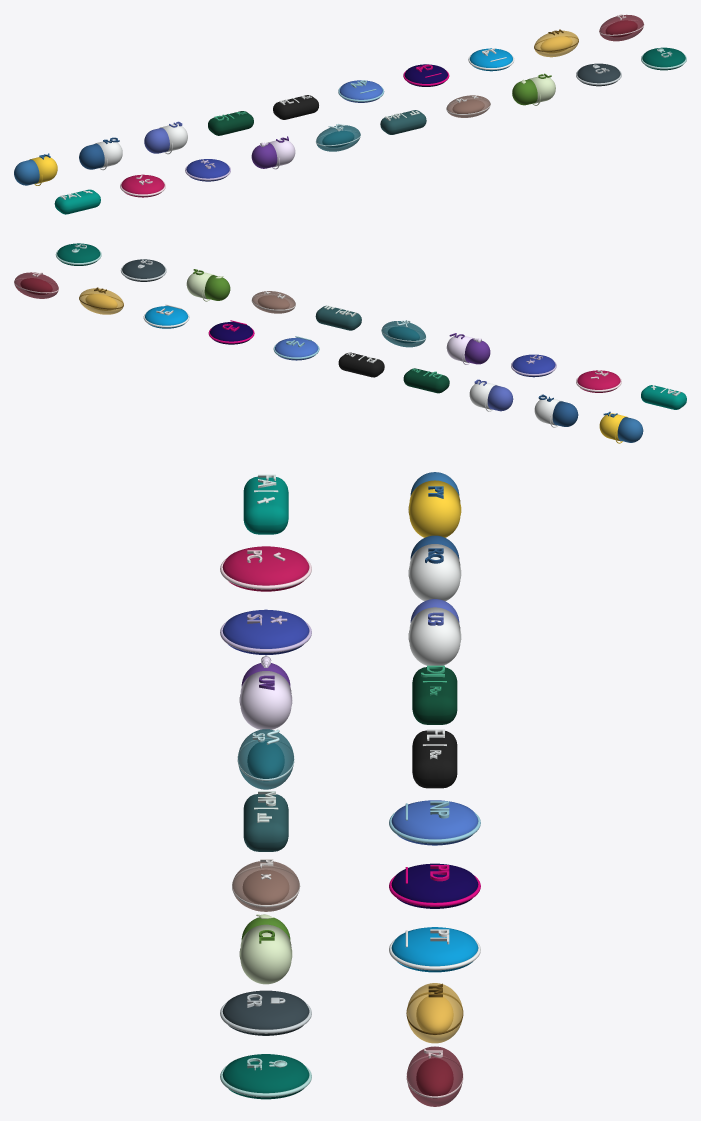
File: pills.glb
3 renders of one model, top to bottom at view 1: azimuth 30°, elevation 25°; view 2: azimuth 150°, elevation 25°; view 3: azimuth 270°, elevation 25°, orthographic. The views are drawn at different scales.
Parts seen in each view (by area): view 1: jinja2_gel, pyyaml_gel, scipy_gel, flask_body, fastapi_body, django_body, matplotlib_body, pillow_gel, pydantic_body, starlette_body, certifi_body, cryptography_body (+17 smaller); view 2: jinja2_gel, pyyaml_gel, scipy_gel, flask_body, django_body, fastapi_body, matplotlib_body, pillow_gel, pydantic_body, starlette_body, cryptography_body, numpy_body (+17 smaller); view 3: pydantic_body, starlette_body, certifi_body, cryptography_body, pytest_body, numpy_body, pandas_body, pillow_gel, jinja2_gel, pyyaml_gel, scipy_gel, celery_b (+12 smaller).
Boxes of the visible parts, x1,y1,x2,y2 form: jinja2_gel: (599,14,643,41); pyyaml_gel: (534,30,578,57); scipy_gel: (316,125,360,151); flask_body: (273,95,318,119); fastapi_body: (54,189,100,214); django_body: (208,111,253,135); matplotlib_body: (380,110,426,134); pillow_gel: (446,95,490,117); pydantic_body: (121,174,164,197); starlette_body: (186,159,229,181); certifi_body: (642,47,685,70); cryptography_body: (577,63,620,86); jinja2_gel: (14,272,58,298); pyyaml_gel: (79,288,123,314); scipy_gel: (381,321,425,347); flask_body: (338,352,384,377); django_body: (403,368,449,393); fastapi_body: (641,385,686,409); matplotlib_body: (315,306,361,330); pillow_gel: (252,291,295,313); pydantic_body: (577,370,620,392); starlette_body: (512,354,555,377); cryptography_body: (122,259,165,281); numpy_body: (275,337,318,360); pydantic_body: (222,546,309,591); starlette_body: (222,609,309,655); certifi_body: (222,1054,309,1099); cryptography_body: (222,990,309,1035); pytest_body: (391,927,478,972); numpy_body: (391,800,478,845); pandas_body: (391,863,478,908); pillow_gel: (232,861,299,911); jinja2_gel: (407,1046,462,1106); pyyaml_gel: (407,983,462,1043); scipy_gel: (238,729,293,789); celery_b: (240,924,291,984).
Size of the model in its own units: 15.43 by 0.666 by 2.78.
